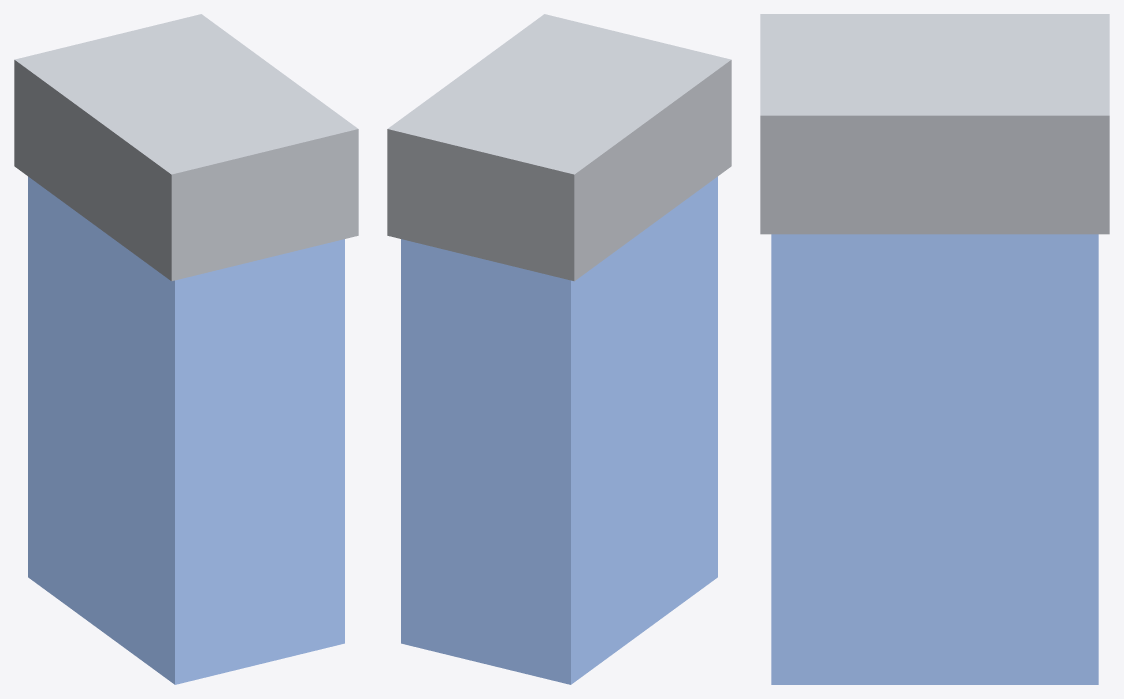
Rendered from stapler.glb.
3 renders of one model, left to right at view 1: azimuth 30°, elevation 25°; view 2: azimuth 150°, elevation 25°; view 3: azimuth 270°, elevation 25°, orthographic. The views are drawn at different scales.
Size of the model in its own units: 0.22 by 0.58 by 0.32.
